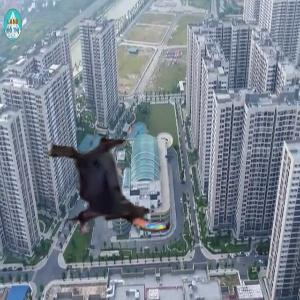drone: (37, 116, 177, 256)
